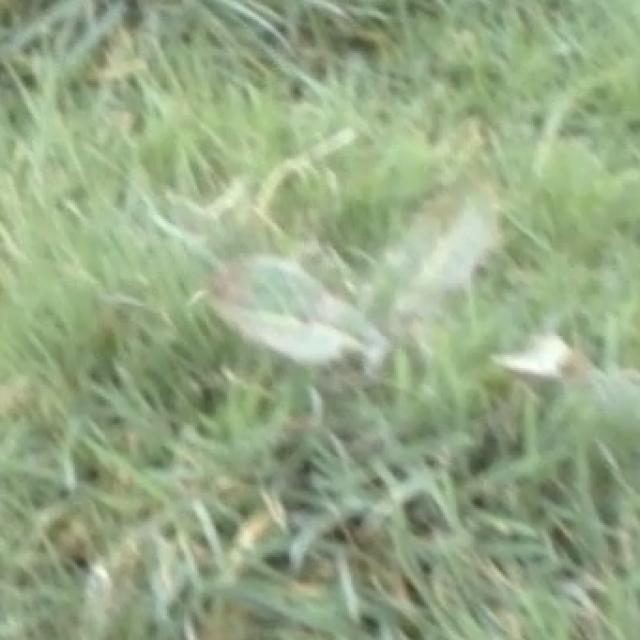organic waste: (163, 225, 593, 426), (357, 168, 531, 342)
